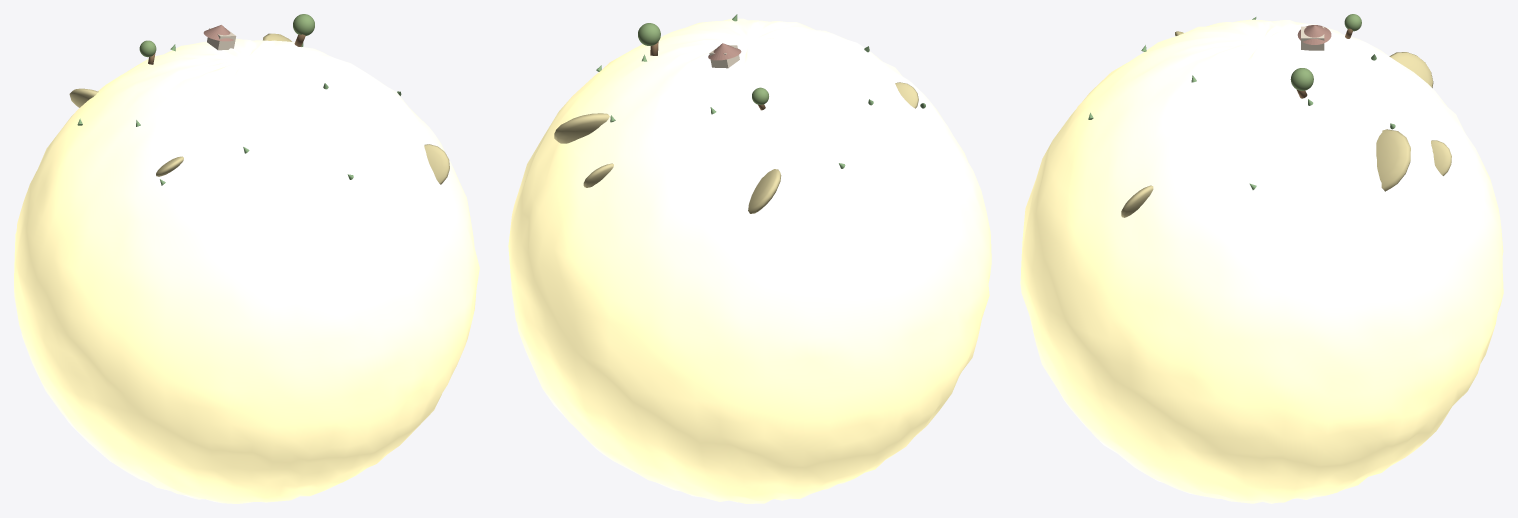
File: yellow_moon.glb
3 renders of one model, left to right at view 1: azimuth 30°, elevation 25°; view 2: azimuth 150°, elevation 25°; view 3: azimuth 270°, elevation 25°, orthographic. The views are drawn at different scales.
Parts seen in each view (by area): view 1: Moon, Crater.002; view 2: Moon, Crater, Crater.001; view 3: Moon, Crater, Crater.001, Crater.004.
Part boxes in pixels (bbox=[...]): Moon: bbox=[14, 38, 479, 503]; Crater.002: bbox=[424, 144, 449, 184]; Moon: bbox=[508, 18, 991, 503]; Crater: bbox=[554, 113, 609, 143]; Crater.001: bbox=[748, 169, 781, 213]; Moon: bbox=[1020, 19, 1503, 503]; Crater: bbox=[1376, 129, 1410, 191]; Crater.001: bbox=[1389, 52, 1433, 87]; Crater.004: bbox=[1431, 140, 1451, 175].
Bounding box in the file's own units: 2 × 2.09 × 2.
